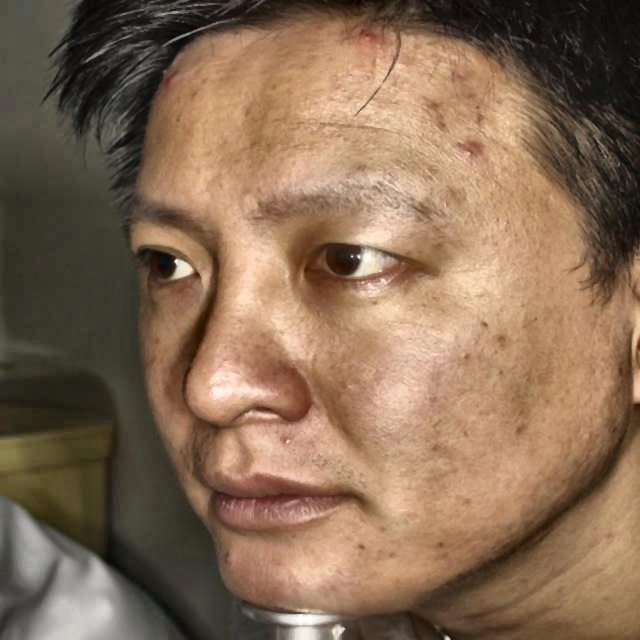comedone: (444, 122, 496, 171), (348, 21, 394, 52), (208, 549, 245, 566)
